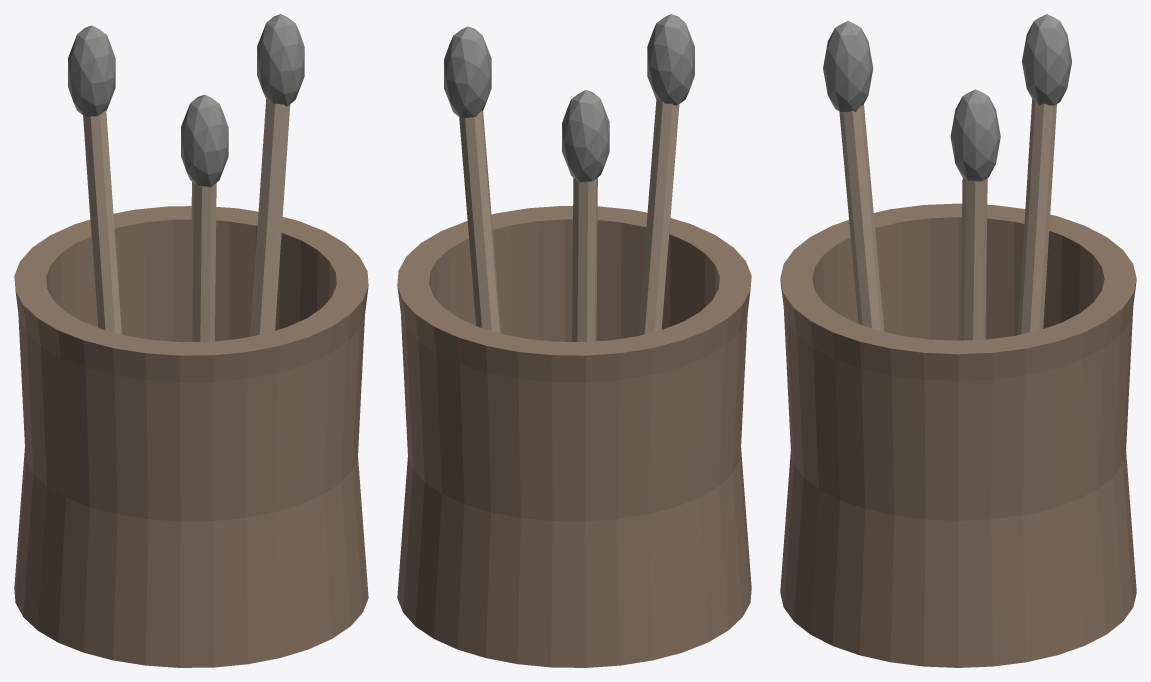
The model's file is prop_brush_pot.glb.
3 renders of one model, left to right at view 1: azimuth 30°, elevation 25°; view 2: azimuth 150°, elevation 25°; view 3: azimuth 270°, elevation 25°, orthographic.
Parts seen in each view (by area): view 1: prop_brush_pot/brush_pot_body_00000, prop_brush_pot/calligraphy_brush_handle_00001, prop_brush_pot/calligraphy_brush_handle_00003, prop_brush_pot/calligraphy_brush_handle_00005, prop_brush_pot/brush_hair_tip_00006, prop_brush_pot/brush_hair_tip_00004, prop_brush_pot/brush_hair_tip_00002; view 2: prop_brush_pot/brush_pot_body_00000, prop_brush_pot/calligraphy_brush_handle_00005, prop_brush_pot/calligraphy_brush_handle_00001, prop_brush_pot/calligraphy_brush_handle_00003, prop_brush_pot/brush_hair_tip_00004, prop_brush_pot/brush_hair_tip_00002, prop_brush_pot/brush_hair_tip_00006; view 3: prop_brush_pot/brush_pot_body_00000, prop_brush_pot/calligraphy_brush_handle_00003, prop_brush_pot/calligraphy_brush_handle_00005, prop_brush_pot/calligraphy_brush_handle_00001, prop_brush_pot/brush_hair_tip_00002, prop_brush_pot/brush_hair_tip_00004, prop_brush_pot/brush_hair_tip_00006.
Boxes of the visible parts, x1,y1,x2,y2 form: prop_brush_pot/brush_pot_body_00000: [14, 206, 368, 667]; prop_brush_pot/calligraphy_brush_handle_00001: [250, 98, 290, 336]; prop_brush_pot/calligraphy_brush_handle_00003: [83, 110, 121, 334]; prop_brush_pot/calligraphy_brush_handle_00005: [190, 181, 216, 341]; prop_brush_pot/brush_hair_tip_00006: [181, 94, 228, 187]; prop_brush_pot/brush_hair_tip_00004: [68, 25, 115, 117]; prop_brush_pot/brush_hair_tip_00002: [257, 14, 304, 106]; prop_brush_pot/brush_pot_body_00000: [397, 206, 751, 667]; prop_brush_pot/calligraphy_brush_handle_00005: [638, 97, 679, 335]; prop_brush_pot/calligraphy_brush_handle_00001: [459, 110, 501, 333]; prop_brush_pot/calligraphy_brush_handle_00003: [572, 177, 597, 341]; prop_brush_pot/brush_hair_tip_00004: [562, 90, 609, 182]; prop_brush_pot/brush_hair_tip_00002: [444, 26, 491, 119]; prop_brush_pot/brush_hair_tip_00006: [647, 14, 694, 105]; prop_brush_pot/brush_pot_body_00000: [780, 203, 1136, 667]; prop_brush_pot/calligraphy_brush_handle_00003: [1017, 99, 1056, 334]; prop_brush_pot/calligraphy_brush_handle_00005: [839, 104, 884, 331]; prop_brush_pot/calligraphy_brush_handle_00001: [960, 177, 987, 340]; prop_brush_pot/brush_hair_tip_00002: [950, 89, 1000, 182]; prop_brush_pot/brush_hair_tip_00004: [1022, 14, 1071, 105]; prop_brush_pot/brush_hair_tip_00006: [823, 21, 873, 112].
Bounding box in the file's own units: 0.17 × 0.305 × 0.17.
